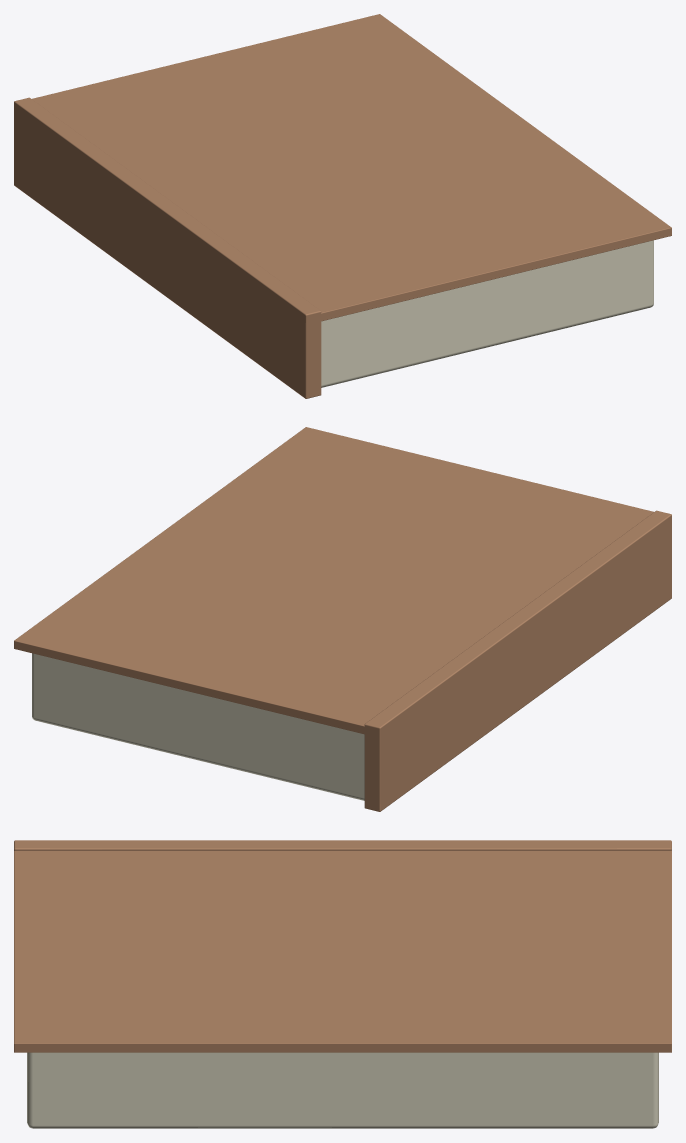
The model's file is book.glb.
3 renders of one model, top to bottom at view 1: azimuth 30°, elevation 25°; view 2: azimuth 150°, elevation 25°; view 3: azimuth 270°, elevation 25°, orthographic. The views are drawn at different scales.
Parts seen in each view (by area): view 1: book; view 2: book; view 3: book.
Boxes of the visible parts, <box> form: book: <box>14,14,671,398</box>; book: <box>14,427,671,811</box>; book: <box>14,840,671,1128</box>.
Bounding box in the file's own units: 0.181 × 0.04 × 0.25.
